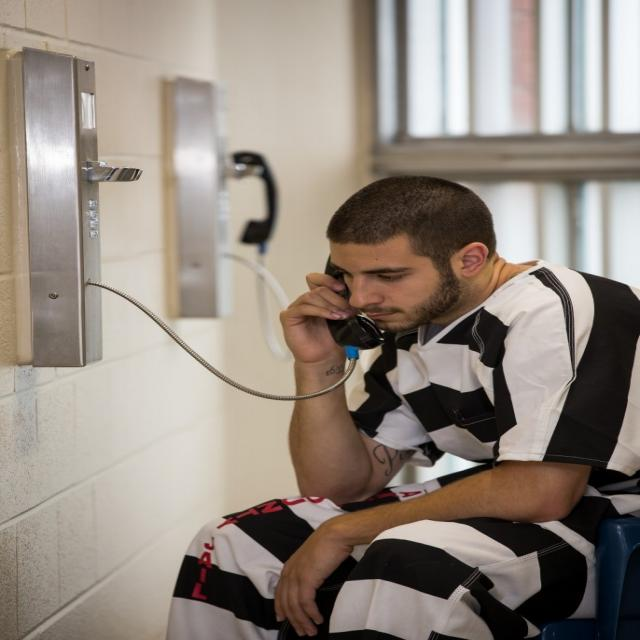phone: (274, 235, 388, 368)
